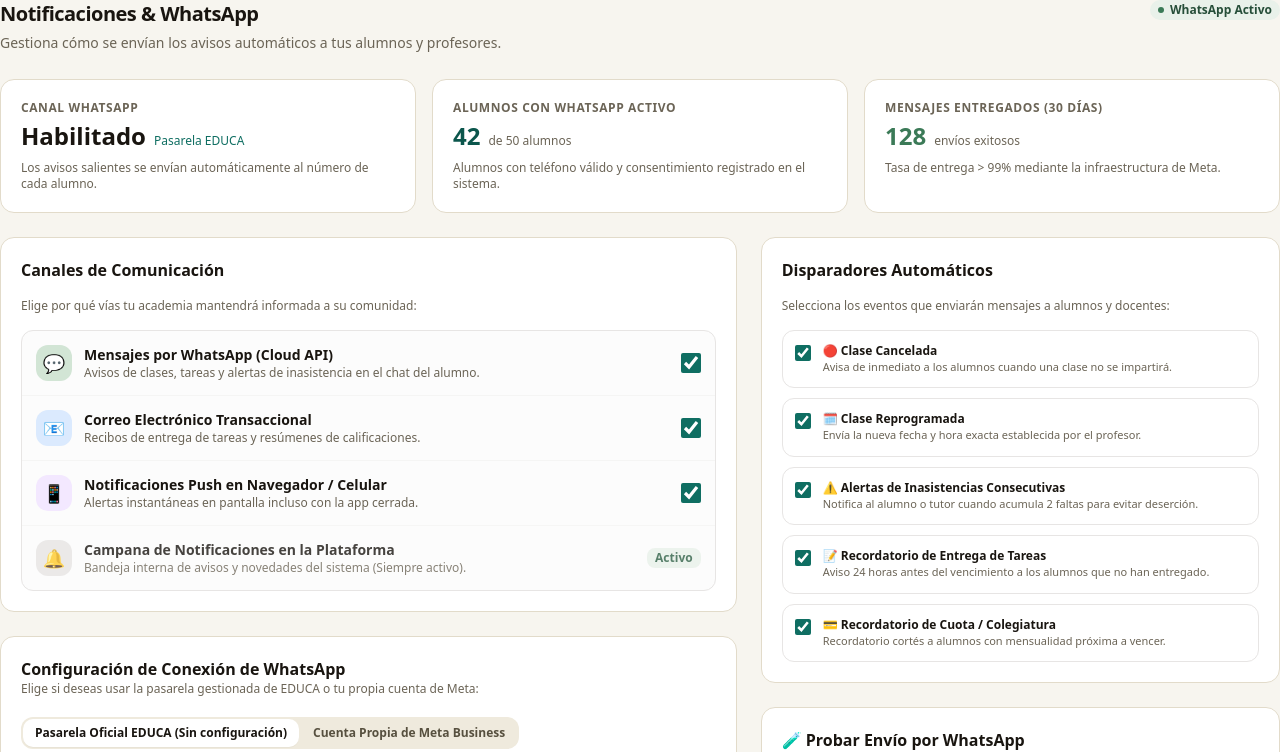
Scenario: NotificationSettingsPanel › allows switching between managed and custom Meta WhatsApp mode
Check: the heading "Notificaciones & WhatsApp" is shown, box [0, 0, 258, 27]
Click the tab "Cuenta Propia de Meta Business": coordinates (409, 733) [301, 719, 517, 747]
(page scrolled)
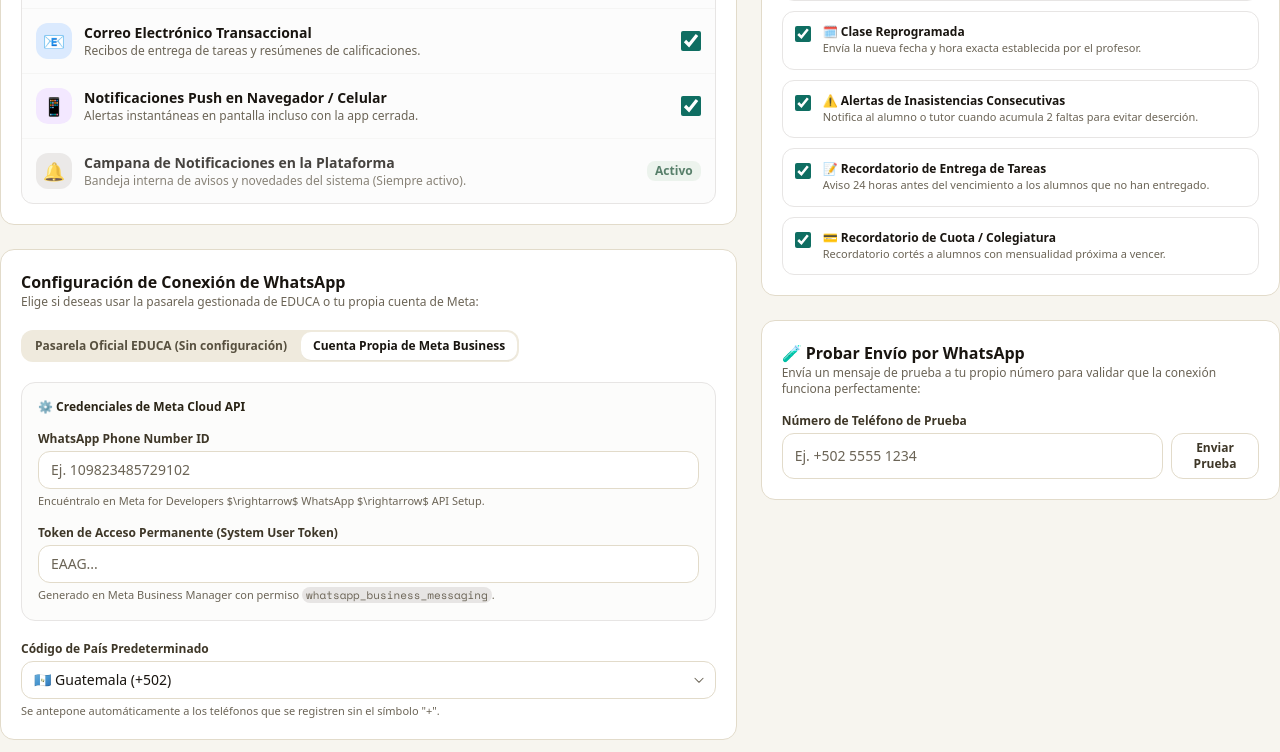
Check: the text "WhatsApp Phone Number ID" is shown, box [38, 430, 210, 447]
Check: the text "Token de Acceso Permanente (System User Token)" is shown, box [38, 524, 338, 541]
